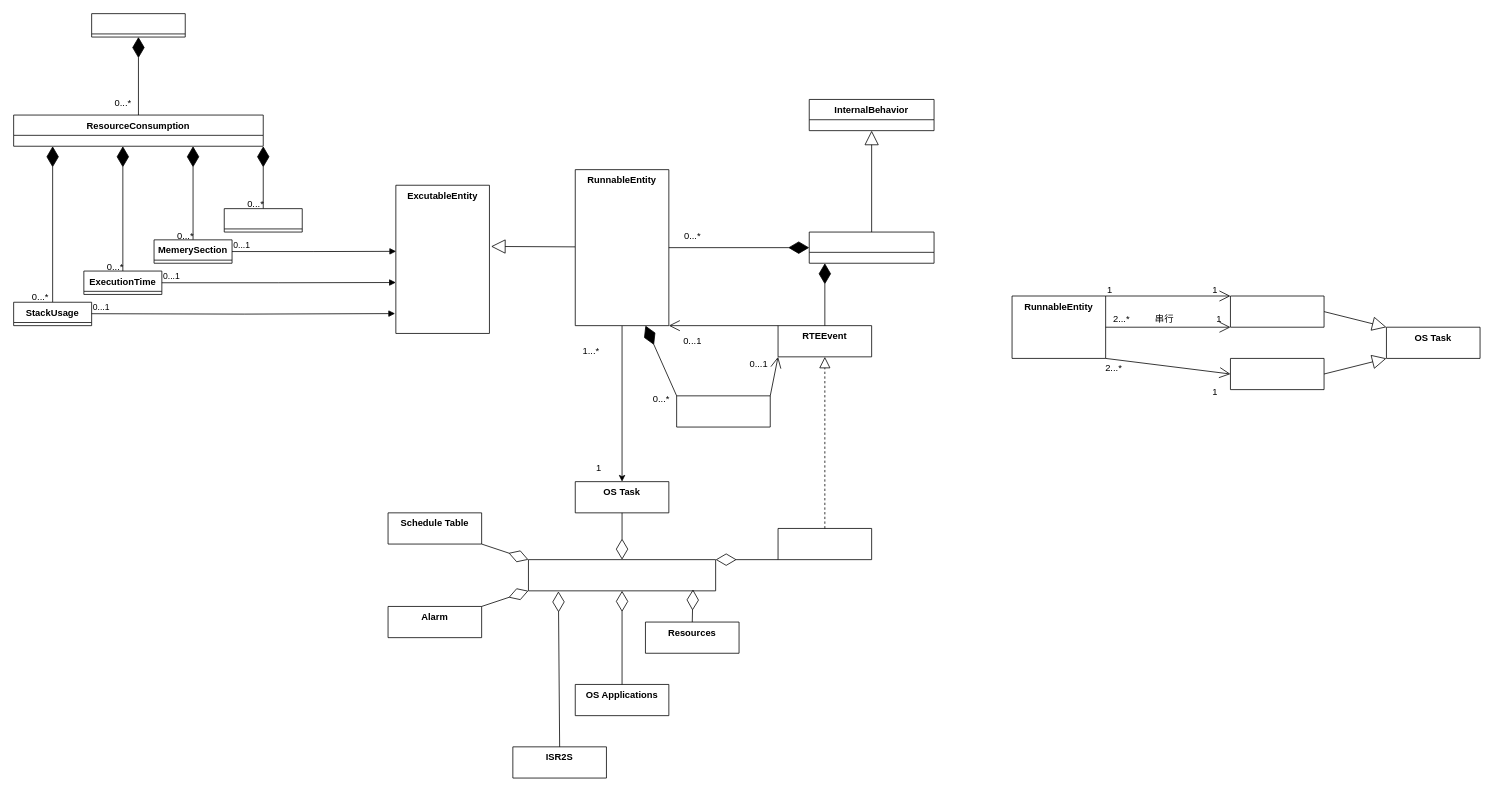
Some shapes in this 1494 by 792 pixel diagram are drawn without their labels. Here are the shapes that lost their labels. From the top down, the centre of each, then its label:
(x=138, y=25): Implementation
(x=262, y=220): HeapUsage
(x=871, y=247): SwcInternalBehavior
(x=1277, y=311): Basic Task
(x=1277, y=374): Extand Task
(x=723, y=411): WaitPoint
(x=824, y=544): OS Event
(x=622, y=575): OS object
